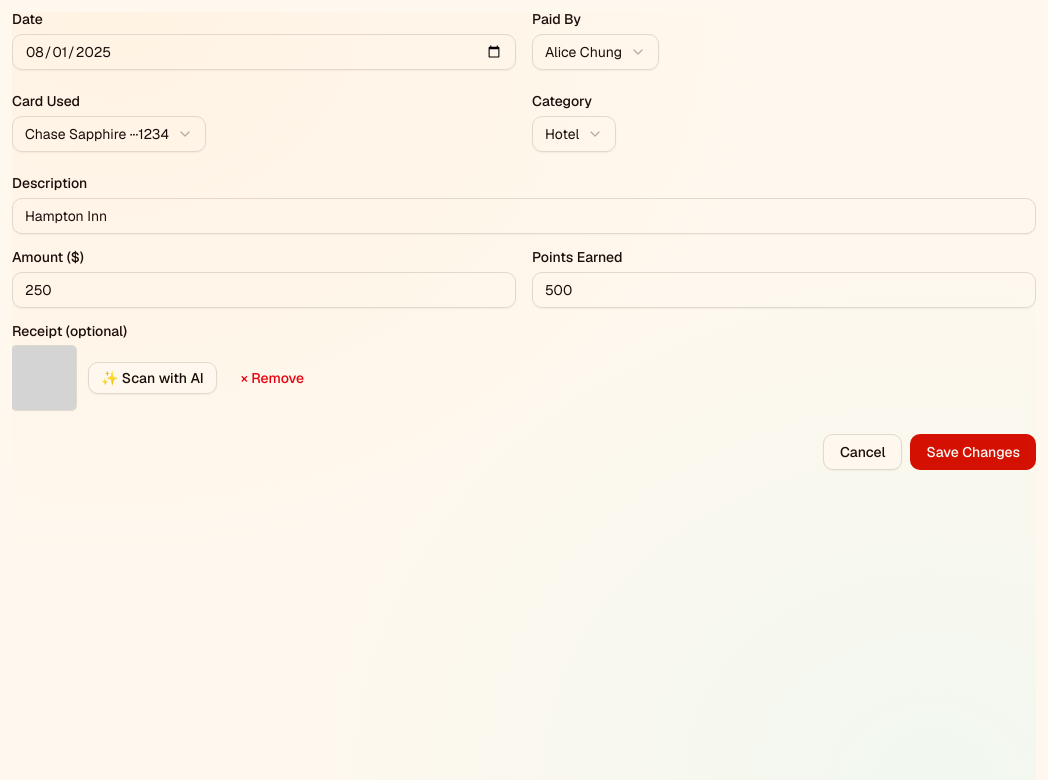
Receipt UI — with existing receiptPath › scan shows error when AI cannot read fields
What coordinates should you click on to do the following:
click the button "✨ Scan with AI"
I would click on:
 (152, 378)
Its box is [88,362,217,394].
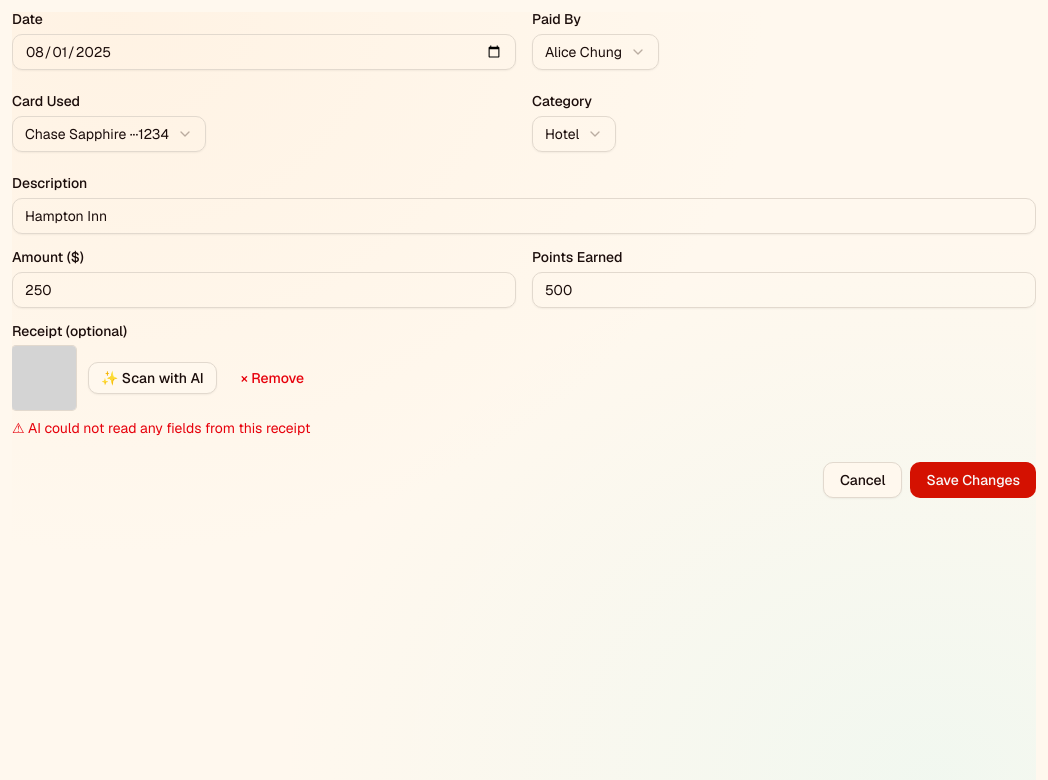
Expected: the text "⚠ AI could not read any fields from this receipt" is shown, [12,419,310,437]
